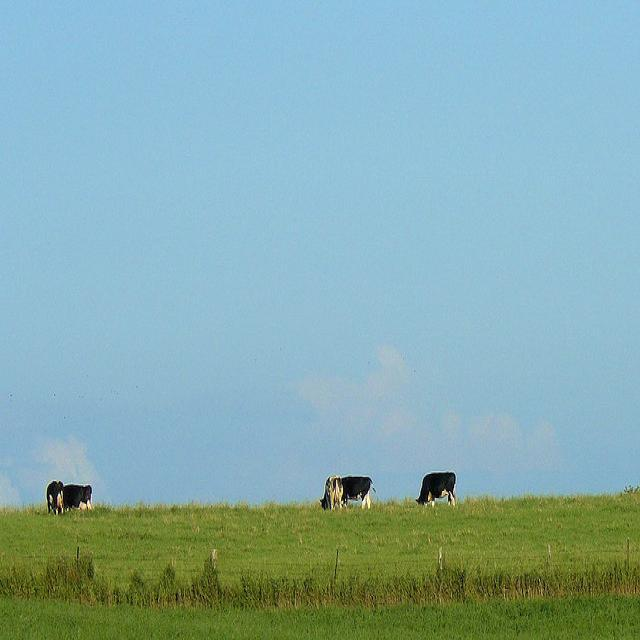cow: (414, 470, 455, 505), (339, 474, 379, 508), (317, 473, 342, 510), (62, 481, 92, 510), (44, 478, 62, 515)
